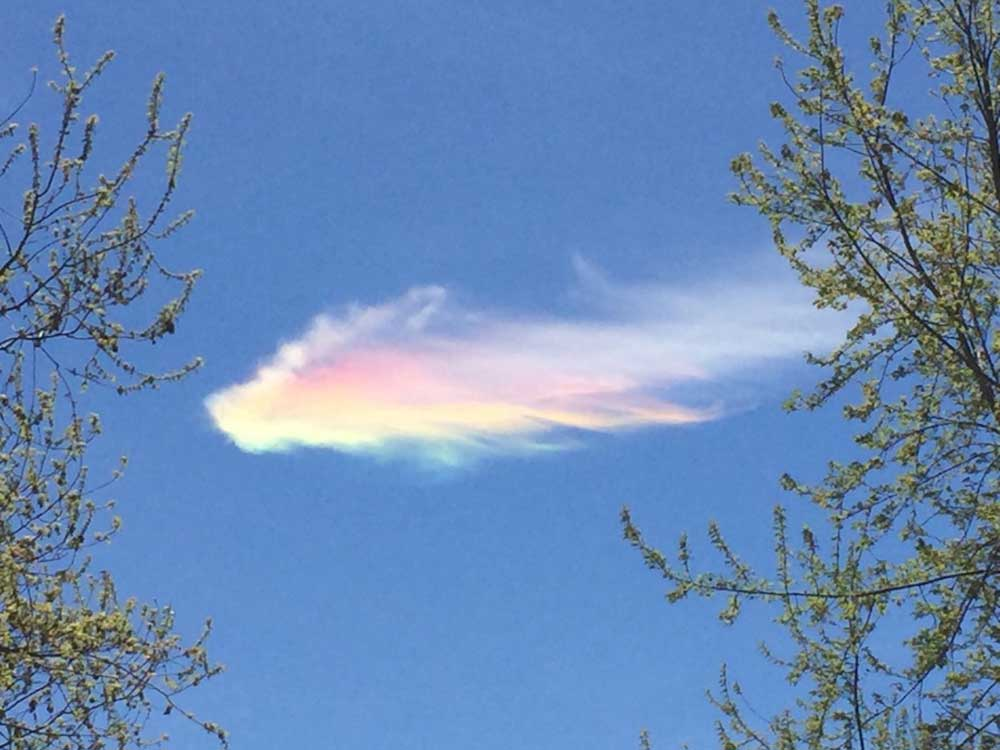Cirrus: (215, 223, 833, 481)
